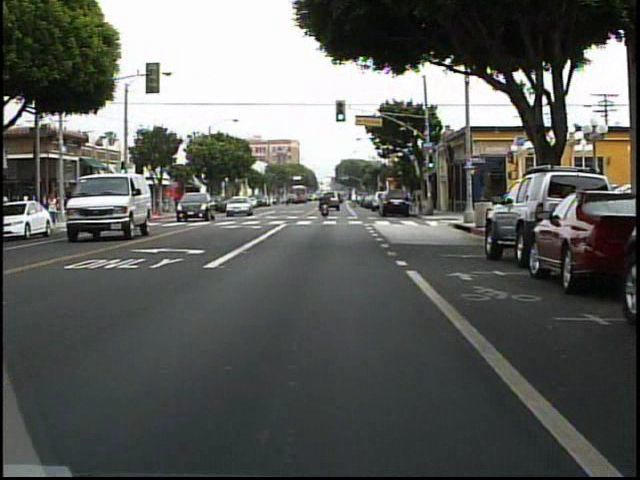person: (46, 190, 63, 230), (74, 188, 88, 221), (320, 189, 334, 219), (91, 190, 102, 221)
